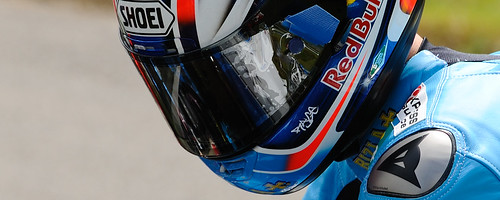helmet: (103, 0, 408, 192)
